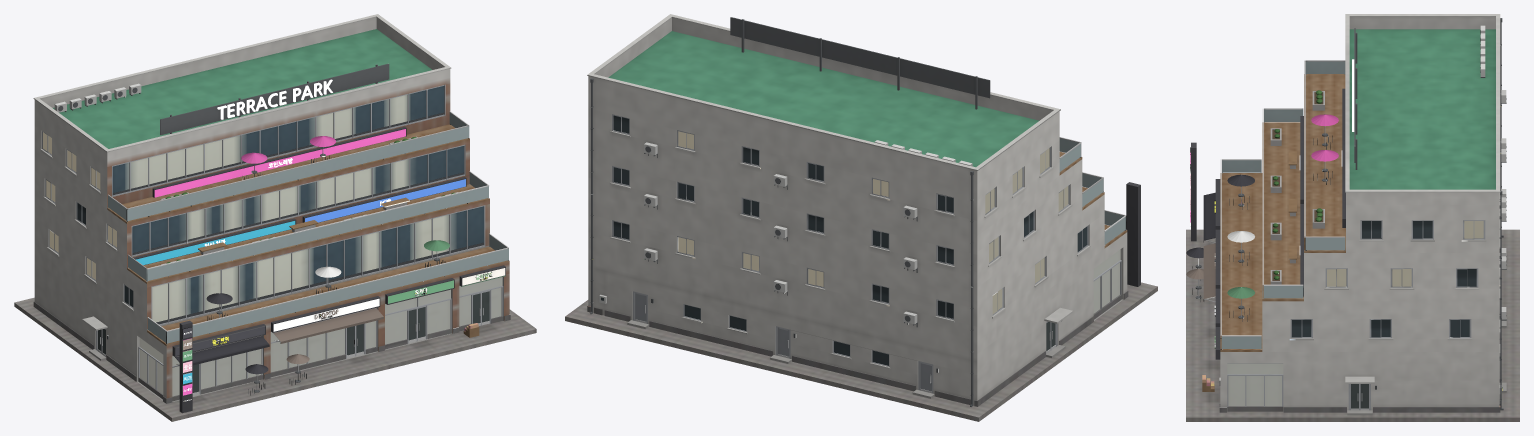
The model's file is IlsanTerracePark02_LOD1.fbx.
3 views of the same model, side by side, from view 1: azimuth 30°, elevation 25°; view 2: azimuth 150°, elevation 25°; view 3: azimuth 270°, elevation 25° (orthographic). The views are drawn at different scales.
Parts seen in each view (by area): view 1: IlsanTerracePark02_LOD1; view 2: IlsanTerracePark02_LOD1; view 3: IlsanTerracePark02_LOD1.
Boxes of the visible parts, x1,y1,x2,y2 form: IlsanTerracePark02_LOD1: (14,14,536,421); IlsanTerracePark02_LOD1: (565,14,1157,421); IlsanTerracePark02_LOD1: (1186,14,1519,421).
Bounding box in the file's own units: 32 × 19.1 × 23.9.
Materials: 1 (1 with a texture image).
